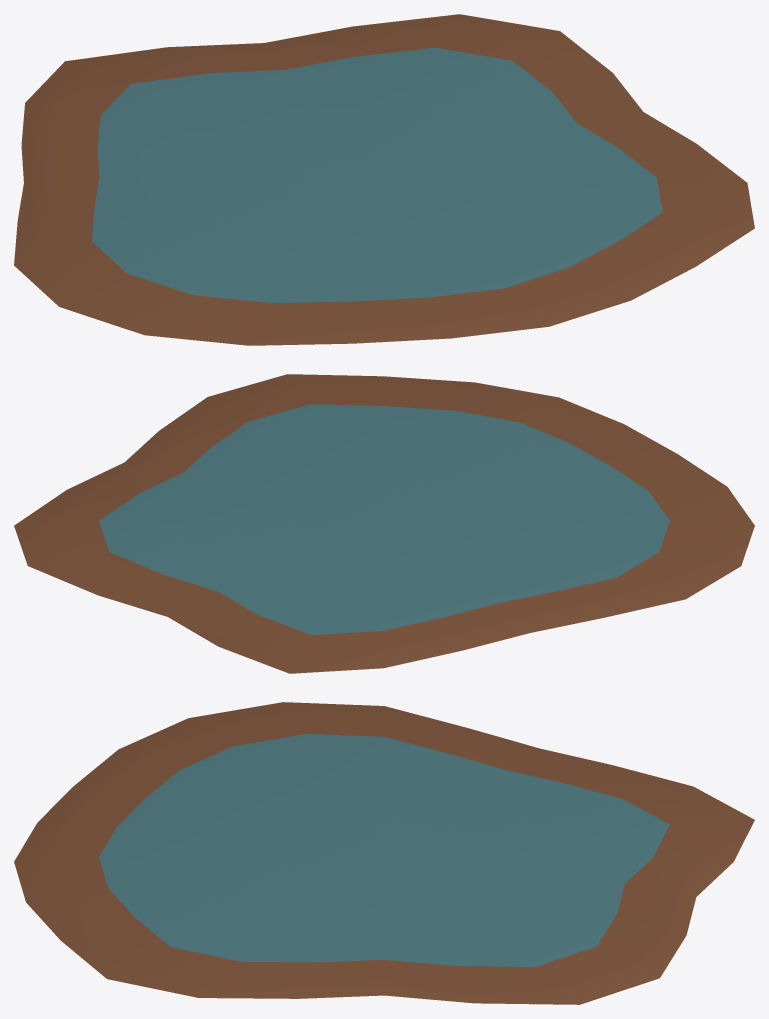
Rendered from deco_decal_puddle.fbx.
3 renders of one model, top to bottom at view 1: azimuth 30°, elevation 25°; view 2: azimuth 150°, elevation 25°; view 3: azimuth 270°, elevation 25°, orthographic. The views are drawn at different scales.
Visible parts, largest first — view 1: Decal_Puddle_Mud, Decal_Puddle_Water; view 2: Decal_Puddle_Mud, Decal_Puddle_Water; view 3: Decal_Puddle_Mud, Decal_Puddle_Water.
Part boxes in pixels (left/top/right/bottom): Decal_Puddle_Mud: left=14, top=14, right=754, bottom=345; Decal_Puddle_Water: left=91, top=47, right=662, bottom=303; Decal_Puddle_Mud: left=14, top=374, right=754, bottom=673; Decal_Puddle_Water: left=99, top=404, right=669, bottom=634; Decal_Puddle_Mud: left=14, top=702, right=754, bottom=1004; Decal_Puddle_Water: left=99, top=734, right=669, bottom=966.
Size of the model in its own units: 199 by 3.46 by 206.
